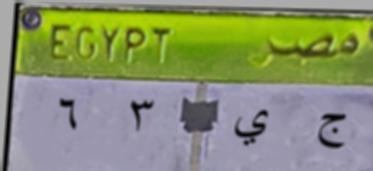3: (119, 91, 161, 144)
6: (51, 88, 84, 135)
jeem: (313, 107, 346, 156)
yaa: (224, 103, 277, 151)
